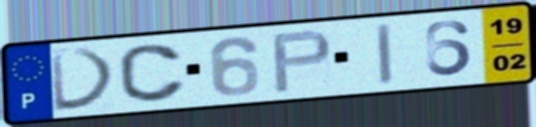6: (206, 34, 261, 98), (422, 19, 475, 79)
C: (115, 42, 190, 105)
D: (48, 46, 121, 115)
I: (374, 20, 395, 86)
P: (269, 28, 335, 96)
